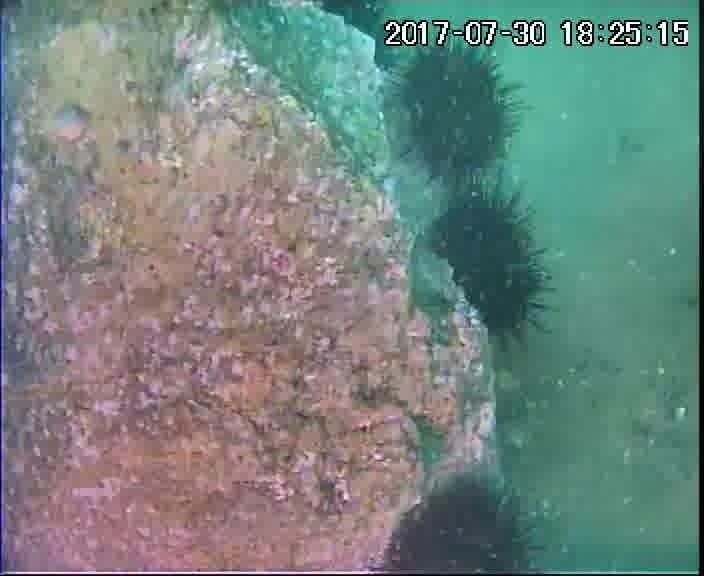echinus: (425, 188, 554, 345), (391, 41, 524, 185), (383, 473, 539, 572), (318, 1, 411, 75)
